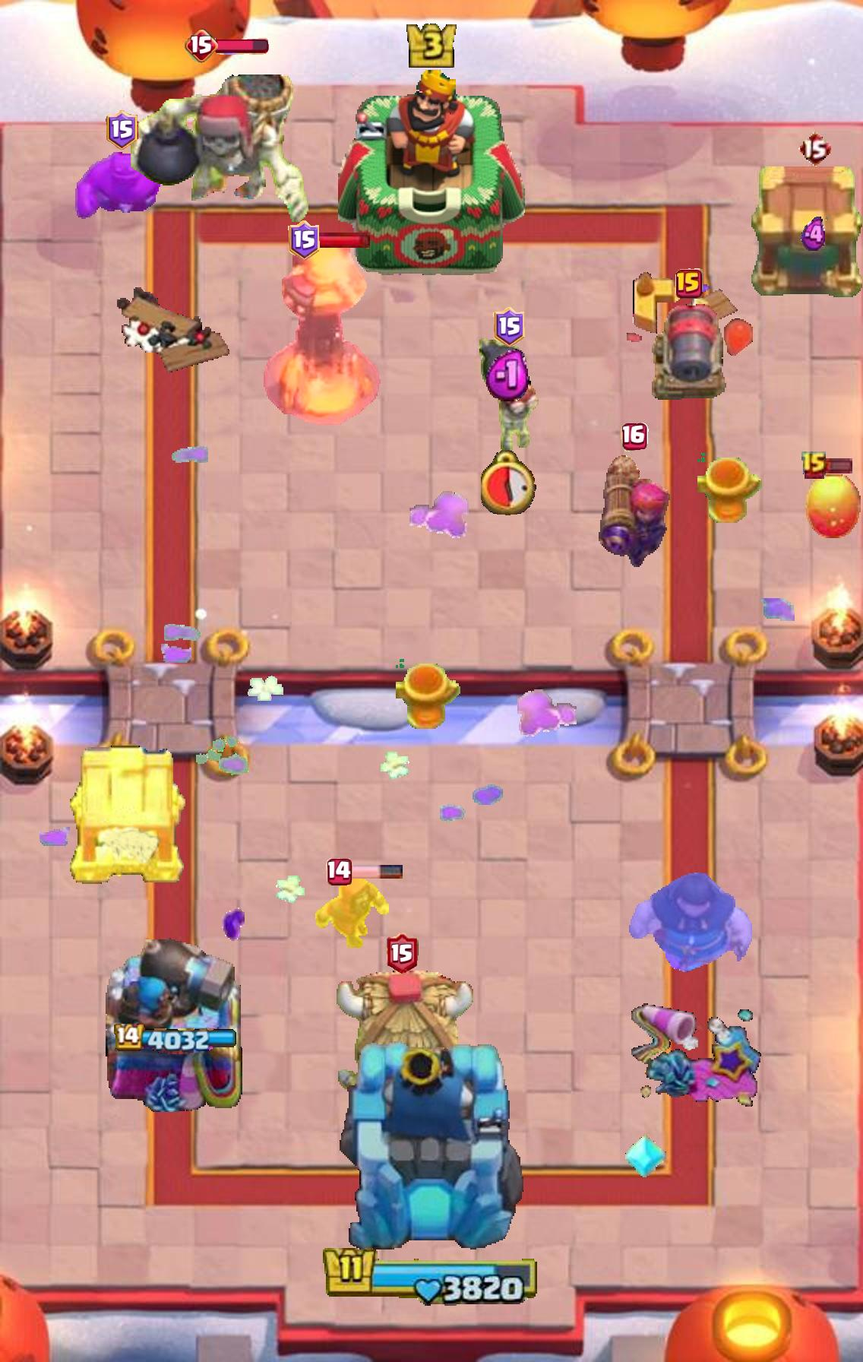bar: (316, 232, 372, 249), (214, 38, 269, 55), (349, 864, 403, 879), (824, 458, 853, 474)
bar-level: (105, 110, 138, 150), (387, 933, 419, 974), (288, 220, 320, 260), (493, 307, 525, 347), (798, 130, 831, 166), (185, 29, 219, 63), (676, 268, 704, 299), (801, 451, 828, 481), (621, 423, 649, 451), (326, 858, 352, 885)
